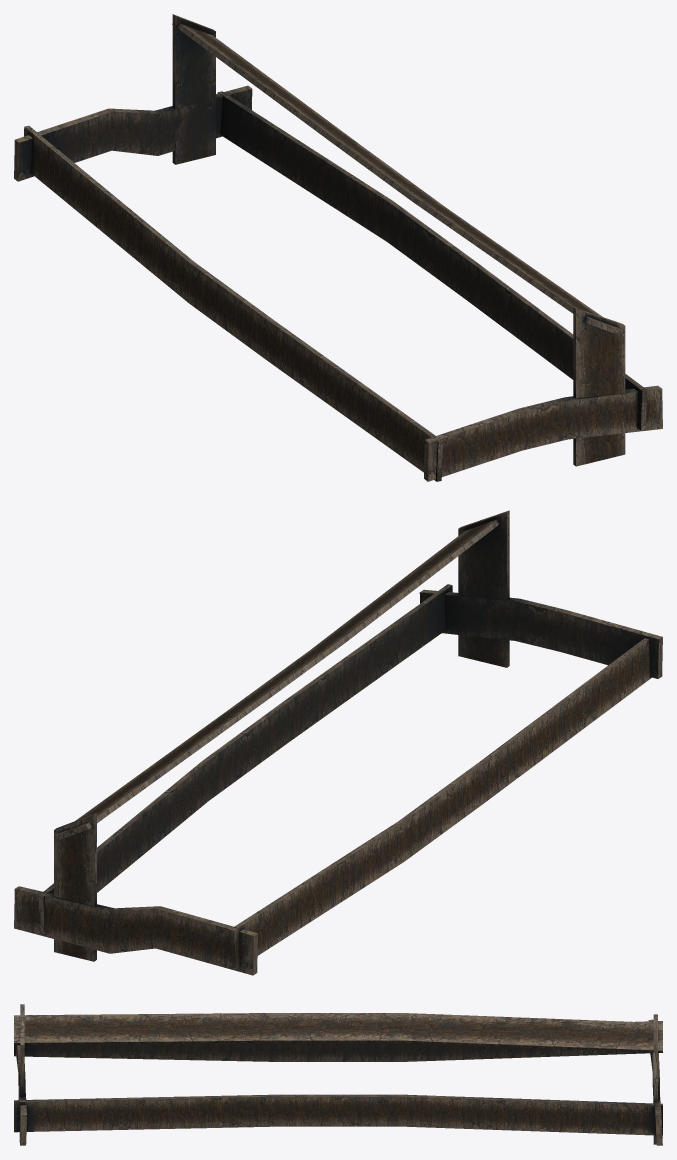
Rendered from WoodWall.fbx.
The picture shows the model from 3 angles, top to bottom: view 1: azimuth 30°, elevation 25°; view 2: azimuth 150°, elevation 25°; view 3: azimuth 270°, elevation 25°; orthographic projection. The views are drawn at different scales.
Visible parts, largest first — view 1: polymsh; view 2: polymsh; view 3: polymsh.
Boxes of the visible parts, x1,y1,x2,y2 form: polymsh: [14, 14, 662, 481]; polymsh: [14, 510, 662, 975]; polymsh: [14, 1004, 662, 1145].
Size of the model in its own units: 13.47 by 8.52 by 41.13.
